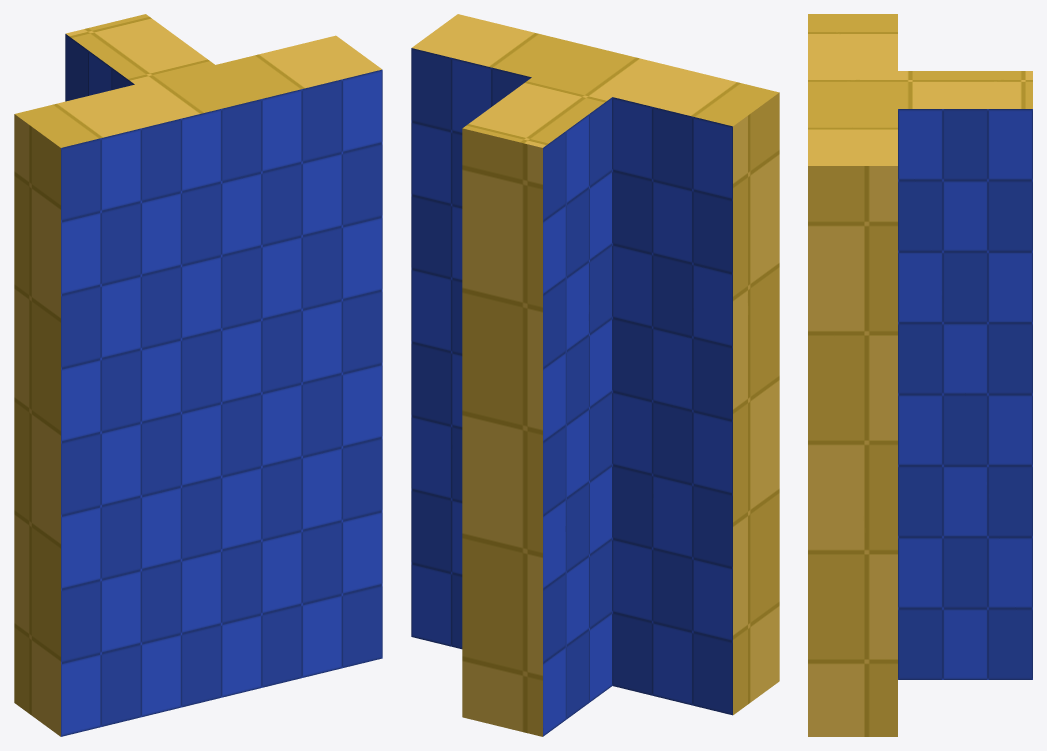
The model's file is WallT.fbx.
3 renders of one model, left to right at view 1: azimuth 30°, elevation 25°; view 2: azimuth 150°, elevation 25°; view 3: azimuth 270°, elevation 25°, orthographic. The views are drawn at different scales.
Visible parts, largest first — view 1: WallT; view 2: WallT; view 3: WallT.
Boxes of the visible parts, box(x1,y1,x2,y2) form: WallT: box(14, 14, 382, 736); WallT: box(411, 14, 779, 736); WallT: box(808, 14, 1032, 736).
Size of the model in its own units: 200 by 125 by 350.
